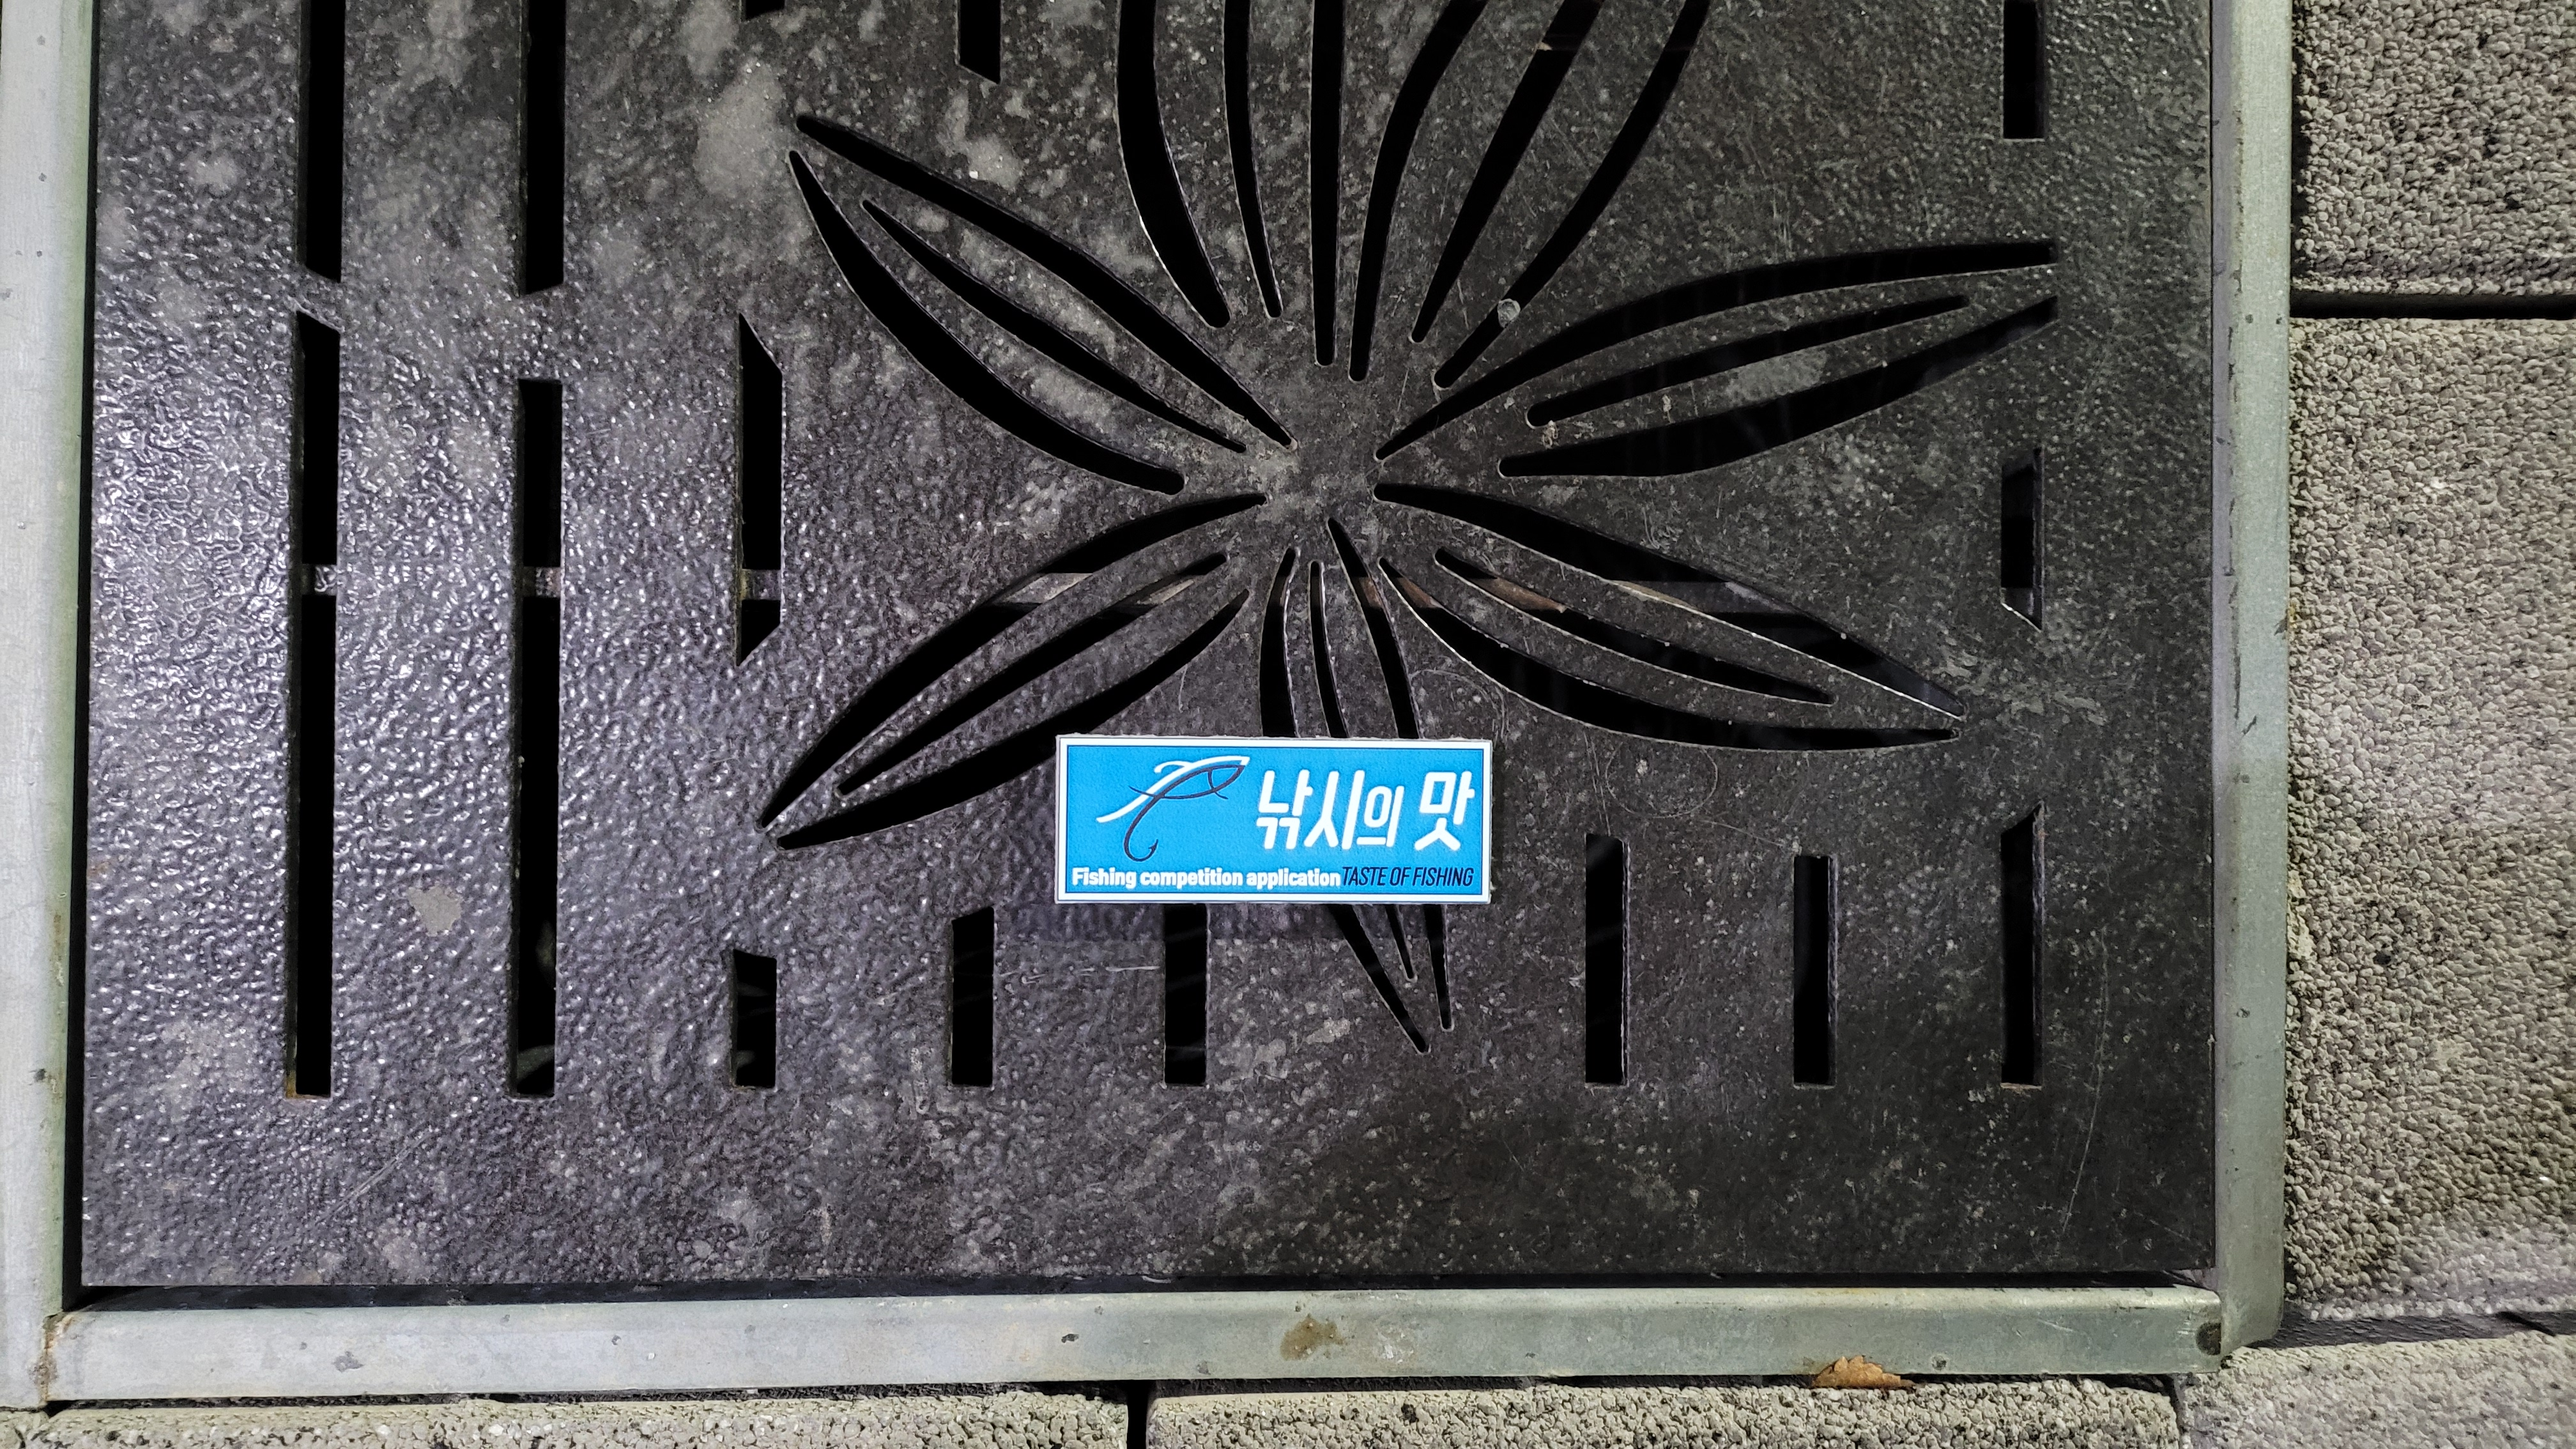tag: (1056, 738, 1493, 901)
